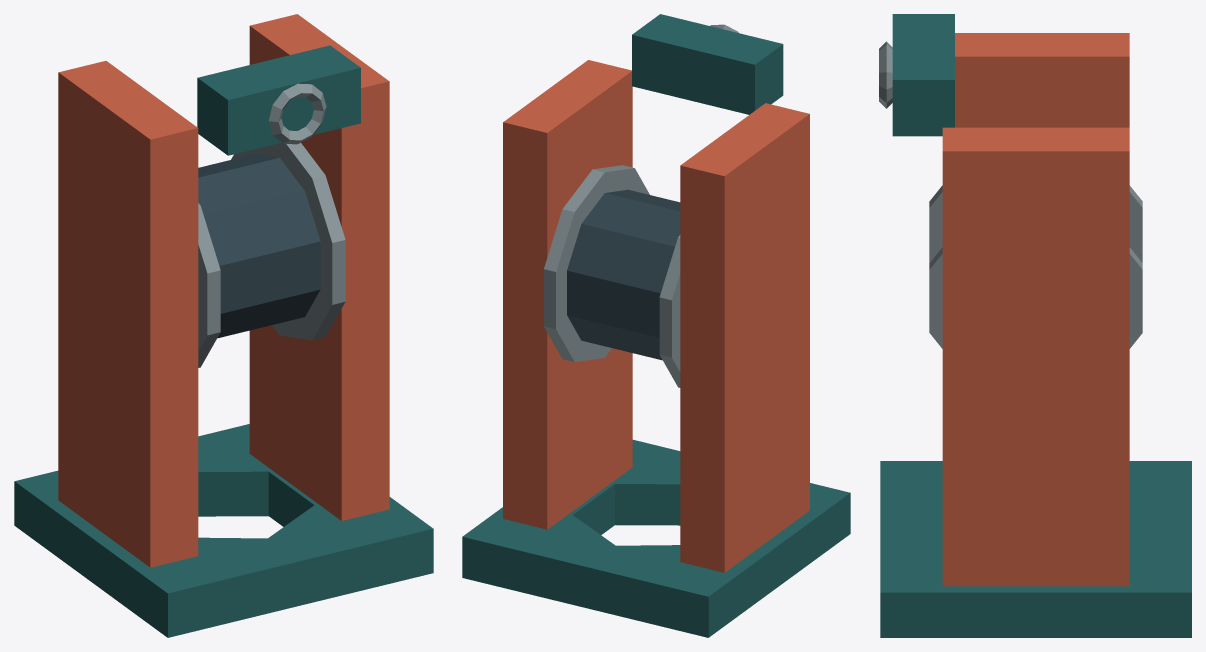
File: winch-lod-2.glb
The picture shows the model from 3 angles, left to right: view 1: azimuth 30°, elevation 25°; view 2: azimuth 150°, elevation 25°; view 3: azimuth 270°, elevation 25°; orthographic projection. The views are drawn at different scales.
Visible parts, largest first — view 1: winch_lod_2; view 2: winch_lod_2; view 3: winch_lod_2.
Part boxes in pixels (x1,y1,x2,y2): winch_lod_2: (14,14,433,637); winch_lod_2: (462,14,850,637); winch_lod_2: (879,14,1191,637).
Bounding box in the file's own units: 1 × 1.87 × 1.
Materials: 1 (1 with a texture image).
